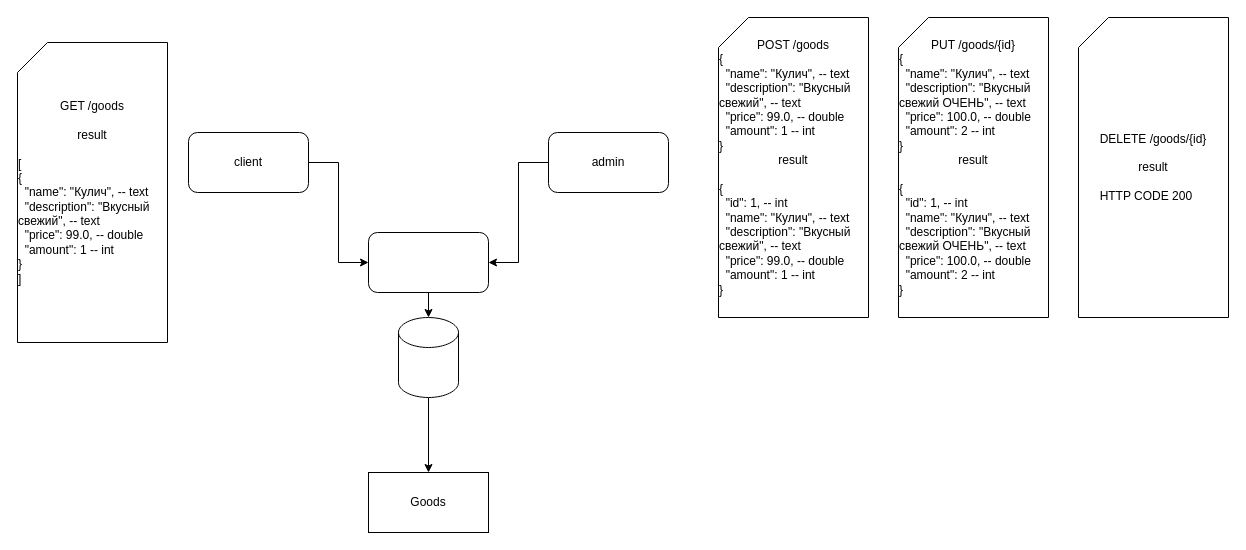
Image size: 1246x550. Some labels were removed from this diagram. The shapes that lost their labels are listed below. From the top down, each one's centre as x and y in pixels, then its label:
the point at 428,262: master
the point at 428,357: postgres
